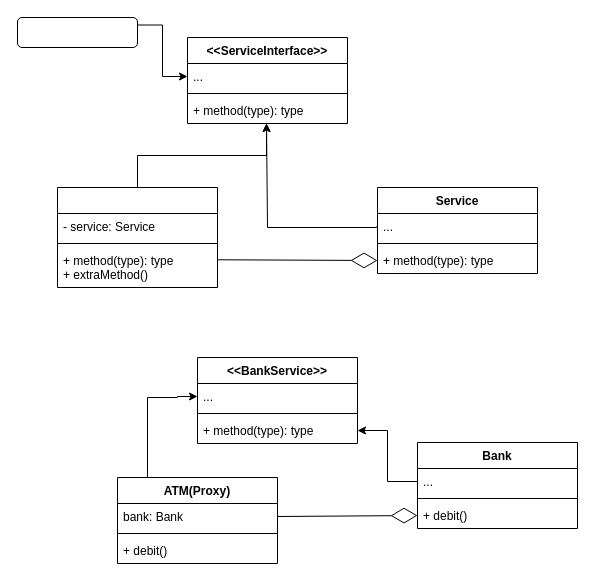
Image size: 595x584. Some labels were removed from this diagram. The shapes that lost their labels are listed below. From the top down, each one's box as (x1, y1, x2, y2) in pixels, then its label:
(16, 16, 138, 48): client
(56, 186, 218, 288): ProxyService
